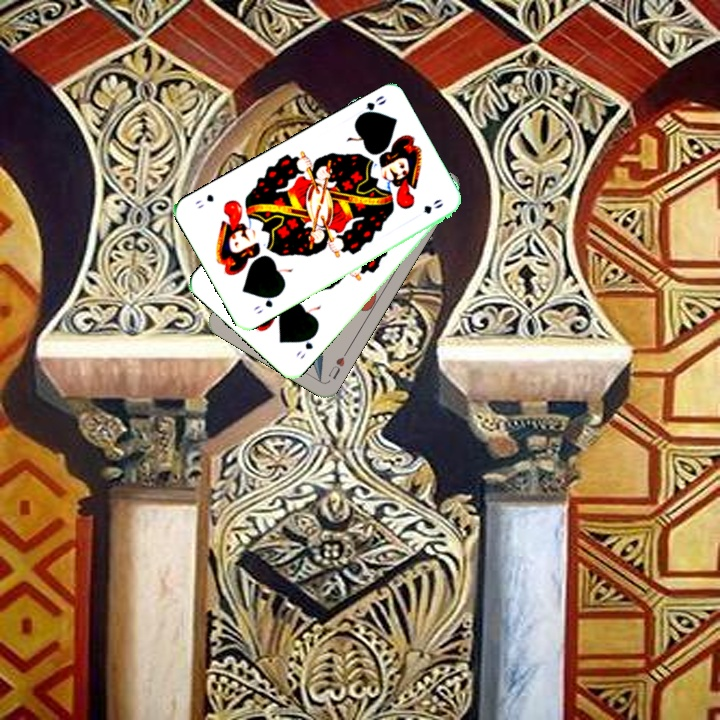GO: (353, 91, 389, 121), (292, 329, 319, 361), (249, 290, 282, 316)
HU: (324, 347, 350, 382)
